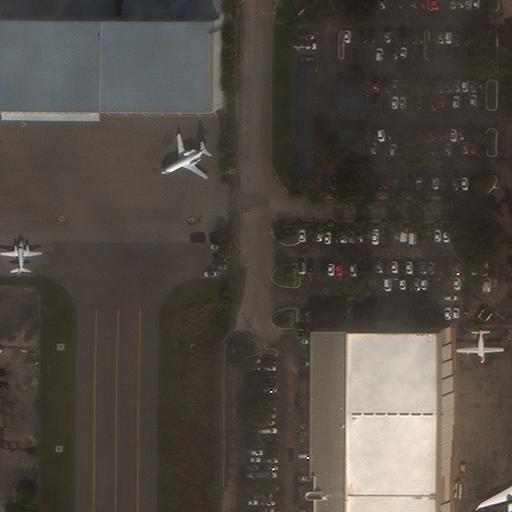Medium Civil Transport: (160, 133, 206, 179), (474, 462, 511, 512), (455, 329, 504, 363)
Small Civil Transport: (0, 240, 41, 273)
